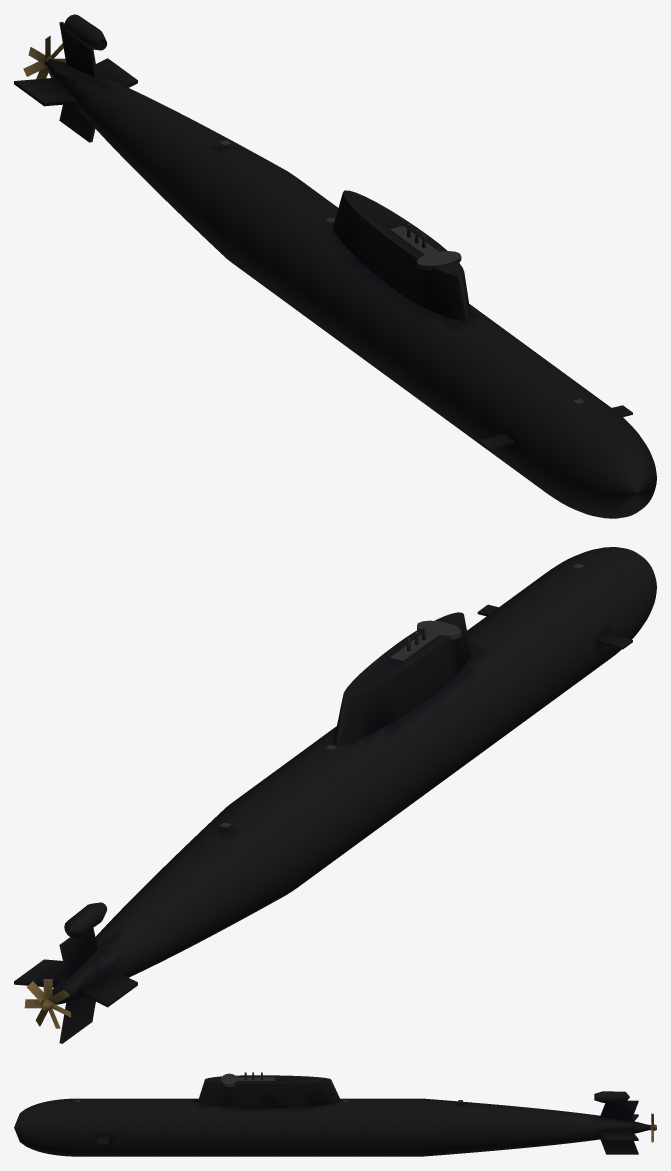
File: model_built.glb
3 renders of one model, top to bottom at view 1: azimuth 30°, elevation 25°; view 2: azimuth 150°, elevation 25°; view 3: azimuth 270°, elevation 25°, orthographic. The views are drawn at different scales.
Visible parts, largest first — view 1: boat; view 2: boat; view 3: boat.
Part boxes in pixels (bbox=[...]): boat: bbox=[14, 14, 656, 518]; boat: bbox=[14, 547, 656, 1043]; boat: bbox=[14, 1072, 656, 1156].
Bounding box in the file's own units: 16.7 × 16.55 × 118.
1 material, 1 textured.
